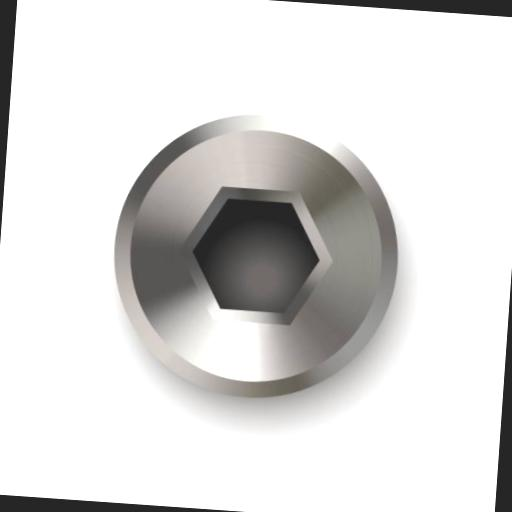Hex-Allen: (104, 100, 403, 410)
